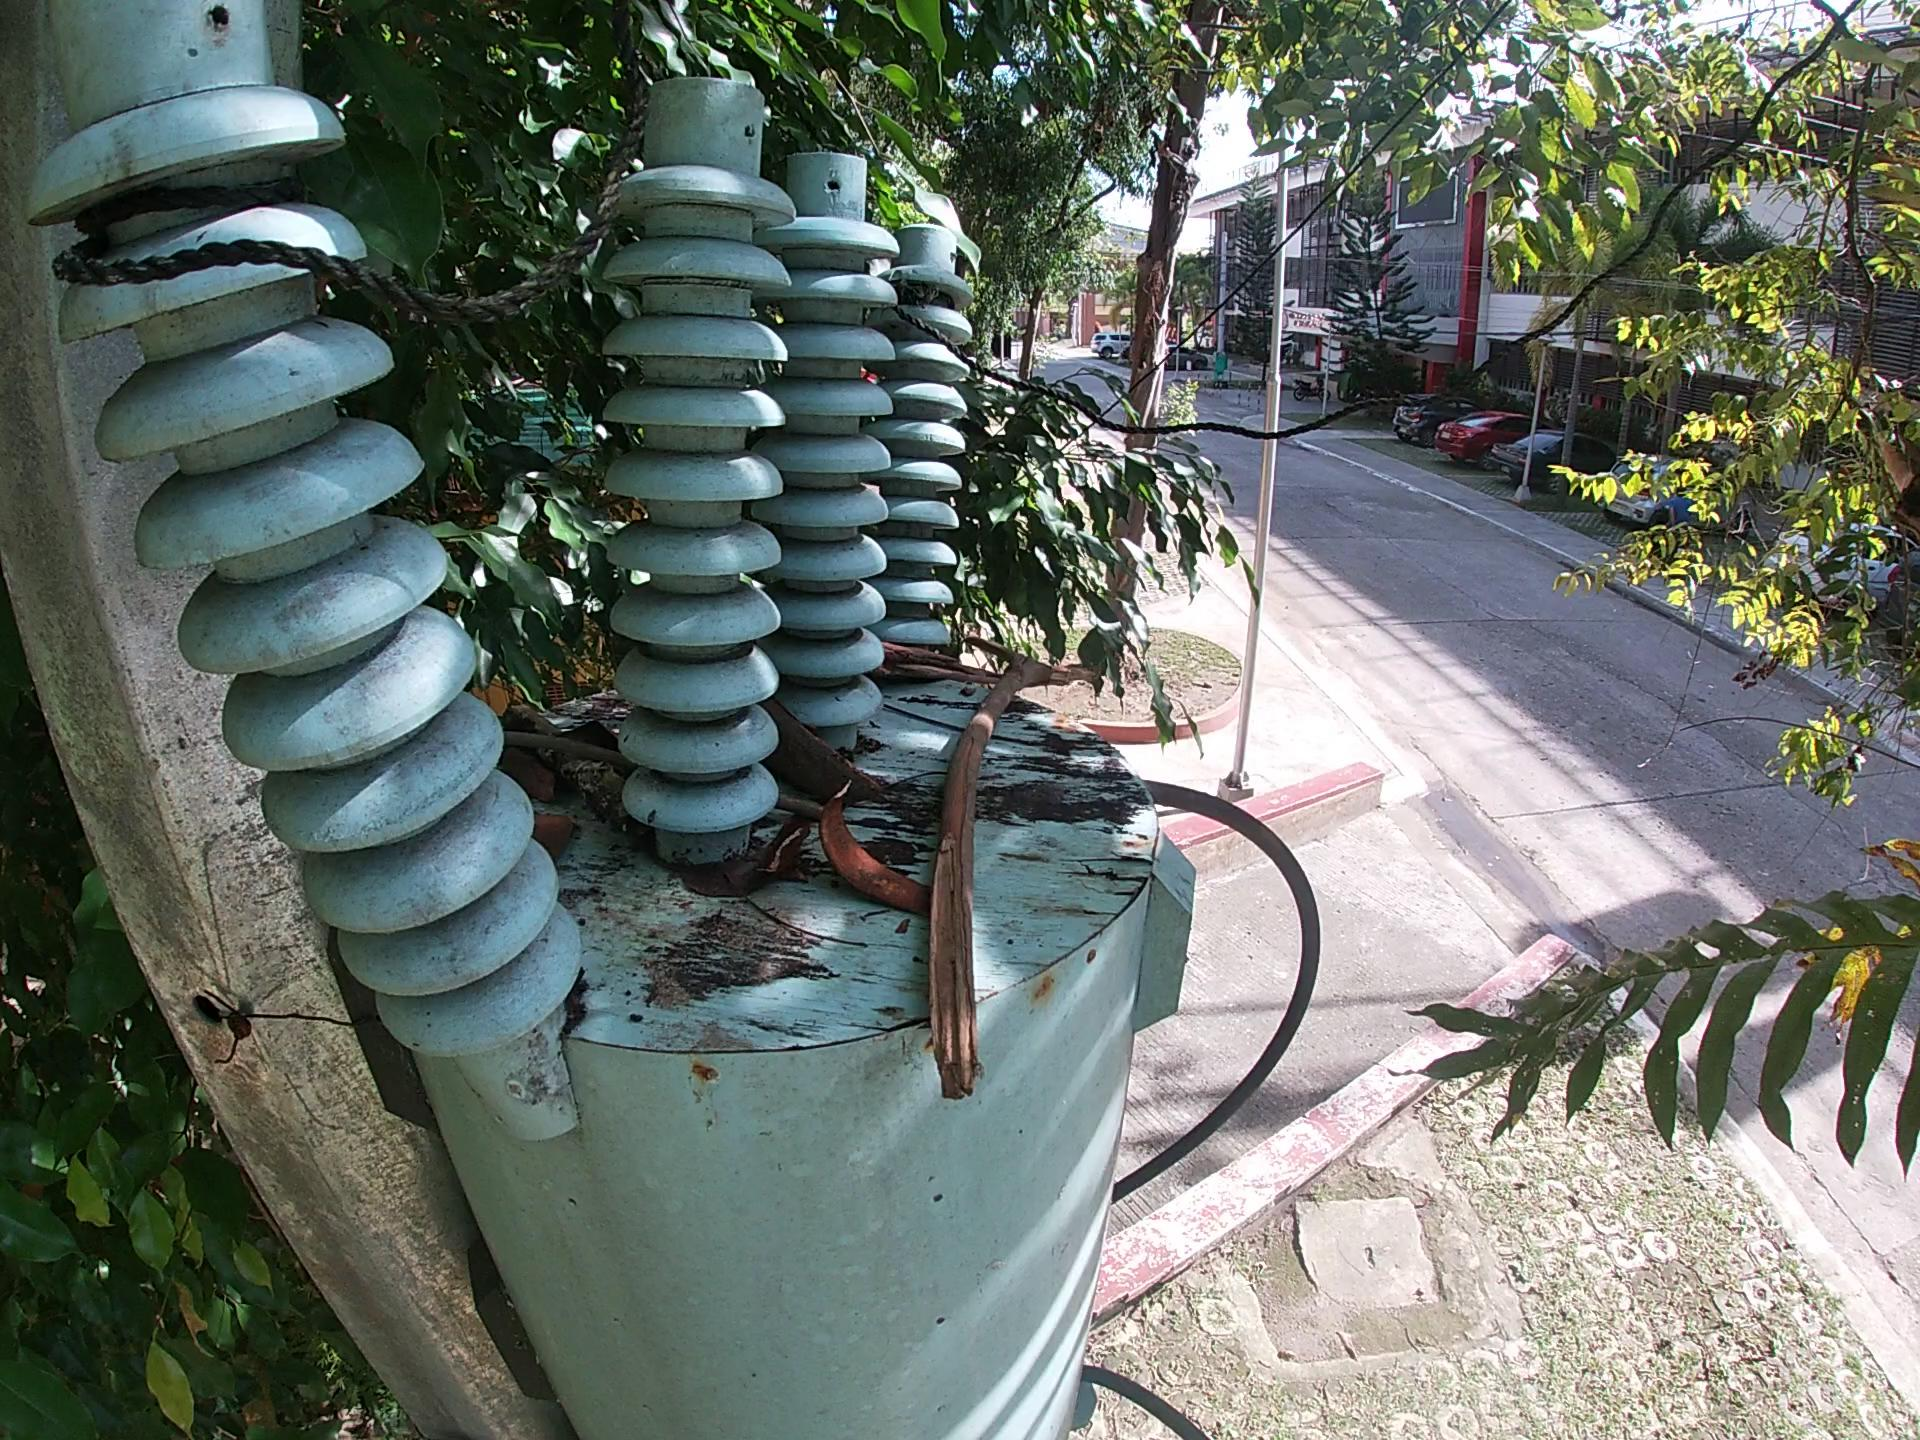leaf: (665, 844, 770, 902), (500, 746, 561, 805), (525, 808, 581, 861)
mahogany fruit: (818, 773, 937, 920), (751, 691, 884, 808), (753, 814, 813, 880)
tree branch: (919, 629, 1107, 1110), (500, 697, 658, 843), (869, 634, 999, 687), (497, 728, 638, 774), (770, 790, 822, 821)
